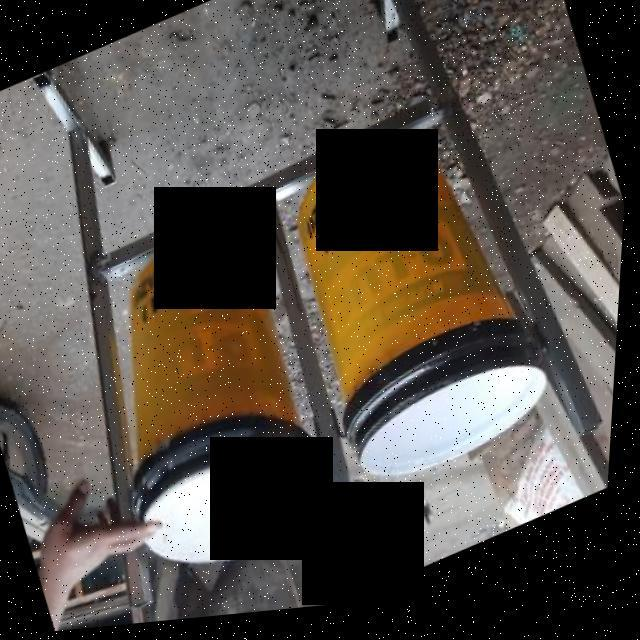bin: (40, 199, 358, 622), (260, 106, 584, 519)
